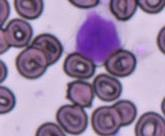L: (73, 5, 126, 64)
